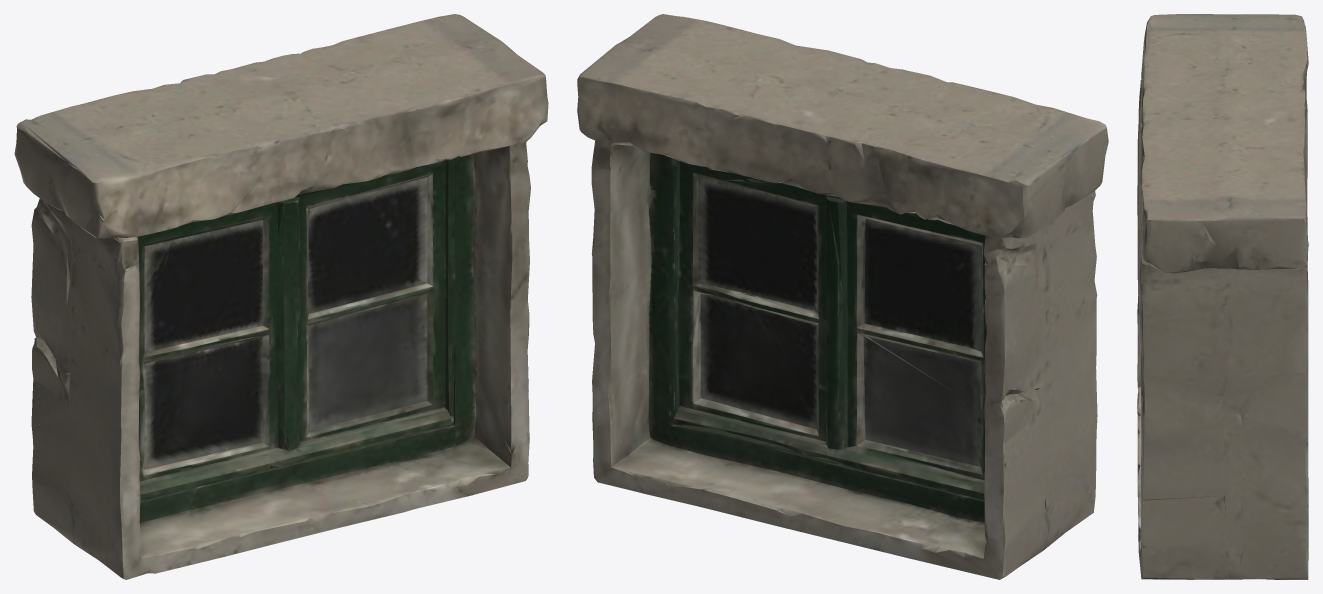
Rendered from familok_attic_window.glb.
3 renders of one model, left to right at view 1: azimuth 30°, elevation 25°; view 2: azimuth 150°, elevation 25°; view 3: azimuth 270°, elevation 25°, orthographic. The views are drawn at different scales.
Parts seen in each view (by area): view 1: main; view 2: main; view 3: main.
Part boxes in pixels (<box>): main: <box>14,14,548,579</box>; main: <box>577,14,1108,579</box>; main: <box>1137,14,1308,579</box>.
Size of the model in its own units: 0.4707 by 0.3999 by 0.165.
1 material, 1 textured.
